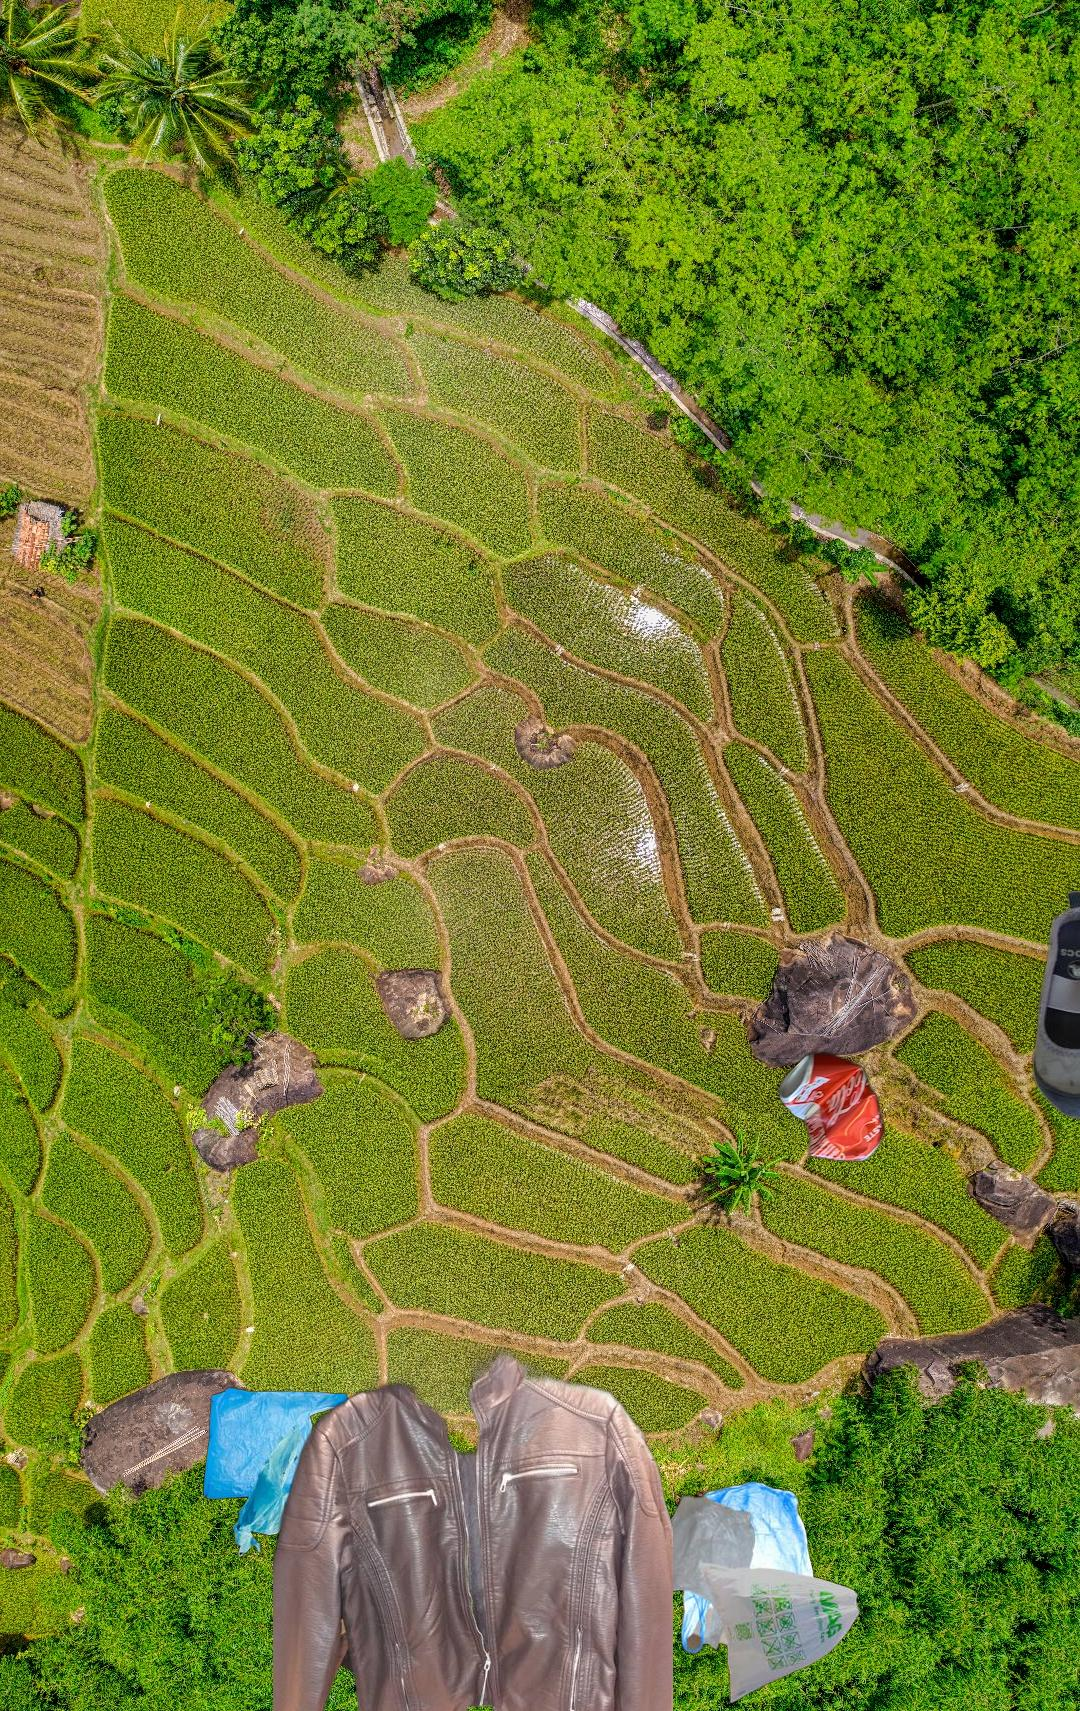battery: (114, 1707, 567, 1711)
clothes: (272, 1320, 673, 1711)
metal-cans: (774, 1047, 890, 1168)
paper: (961, 1522, 1080, 1711)
plastic-bag: (631, 1478, 890, 1707), (200, 1384, 355, 1560)
shoes: (1029, 872, 1080, 1125)
